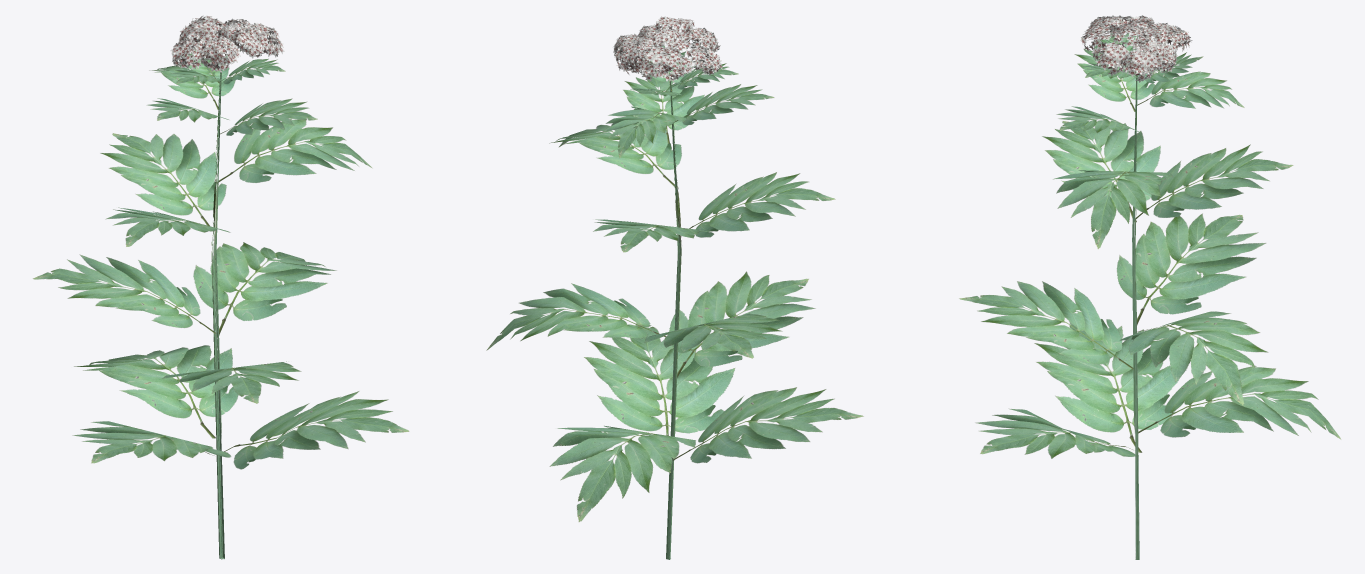
Rendered from smrdljivi_bezeg.gltf.
The picture shows the model from 3 angles, left to right: view 1: azimuth 30°, elevation 25°; view 2: azimuth 150°, elevation 25°; view 3: azimuth 270°, elevation 25°; orthographic projection. The views are drawn at different scales.
Parts seen in each view (by area): view 1: smrdljivibezeg_veja.009, smrdljivibezeg_veja.015, smrdljivibezeg_veja.012, smrdljivibezeg_veja.011, smrdljivibezeg_veja.013, smrdljivibezeg_veja.001, smrdljivibezeg_cvet.4585, smrdljivibezeg_veja.014, smrdljivibezeg_veja.010, Cube.002, smrdljivibezeg_veja.002, smrdljivibezeg_veja.007 (+3 smaller); view 2: smrdljivibezeg_veja.013, smrdljivibezeg_veja.012, smrdljivibezeg_veja.014, smrdljivibezeg_veja.010, smrdljivibezeg_veja.009, smrdljivibezeg_cvet.4585, smrdljivibezeg_veja.002, smrdljivibezeg_veja.001, smrdljivibezeg_veja.011, smrdljivibezeg_veja.007, Cube.002, smrdljivibezeg_veja.006 (+3 smaller); view 3: smrdljivibezeg_veja.011, smrdljivibezeg_veja.014, smrdljivibezeg_veja.012, smrdljivibezeg_veja.010, smrdljivibezeg_veja.009, smrdljivibezeg_veja.015, smrdljivibezeg_cvet.4585, smrdljivibezeg_veja.001, smrdljivibezeg_veja.002, smrdljivibezeg_veja.013, smrdljivibezeg_veja.006, Cube.002 (+3 smaller).
Part boxes in pixels (box(x1,y1,x2,y2)): smrdljivibezeg_veja.009: box(193, 242, 336, 337); smrdljivibezeg_veja.015: box(100, 133, 226, 225); smrdljivibezeg_veja.012: box(74, 345, 238, 438); smrdljivibezeg_veja.011: box(33, 254, 216, 333); smrdljivibezeg_veja.013: box(224, 391, 409, 469); smrdljivibezeg_veja.001: box(216, 119, 372, 183); smrdljivibezeg_cvet.4585: box(170, 15, 284, 72); smrdljivibezeg_veja.014: box(72, 421, 231, 463); smrdljivibezeg_veja.010: box(162, 361, 301, 403); Cube.002: box(204, 50, 240, 559); smrdljivibezeg_veja.002: box(105, 207, 230, 246); smrdljivibezeg_veja.007: box(220, 98, 317, 135); smrdljivibezeg_veja.013: box(584, 323, 735, 435); smrdljivibezeg_veja.012: box(549, 425, 695, 521); smrdljivibezeg_veja.014: box(672, 387, 863, 463); smrdljivibezeg_veja.010: box(669, 271, 815, 377); smrdljivibezeg_veja.009: box(486, 283, 666, 350); smrdljivibezeg_cvet.4585: box(613, 16, 722, 81); smrdljivibezeg_veja.002: box(679, 172, 835, 237); smrdljivibezeg_veja.001: box(549, 122, 681, 187); smrdljivibezeg_veja.011: box(643, 313, 782, 358); smrdljivibezeg_veja.007: box(623, 74, 704, 143); Cube.002: box(655, 57, 695, 559); smrdljivibezeg_veja.006: box(602, 106, 686, 157); smrdljivibezeg_veja.011: box(1116, 213, 1266, 325); smrdljivibezeg_veja.014: box(1034, 321, 1180, 452); smrdljivibezeg_veja.012: box(1138, 366, 1340, 439); smrdljivibezeg_veja.010: box(959, 281, 1133, 369); smrdljivibezeg_veja.009: box(1120, 311, 1268, 405); smrdljivibezeg_veja.015: box(1136, 144, 1293, 218); smrdljivibezeg_cvet.4585: box(1080, 15, 1192, 82); smrdljivibezeg_veja.001: box(1053, 170, 1172, 248); smrdljivibezeg_veja.002: box(1042, 121, 1161, 222); smrdljivibezeg_veja.013: box(975, 409, 1135, 458); smrdljivibezeg_veja.006: box(1137, 71, 1244, 108); Cube.002: box(1105, 36, 1179, 559).
Size of the model in its own units: 4.43 by 6.05 by 4.41.
3 materials, 3 textured.
